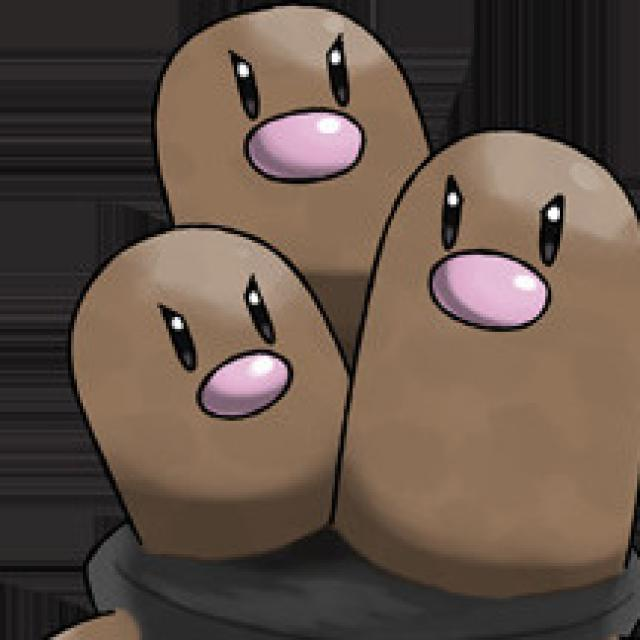Dugtrio: (69, 1, 640, 589)
